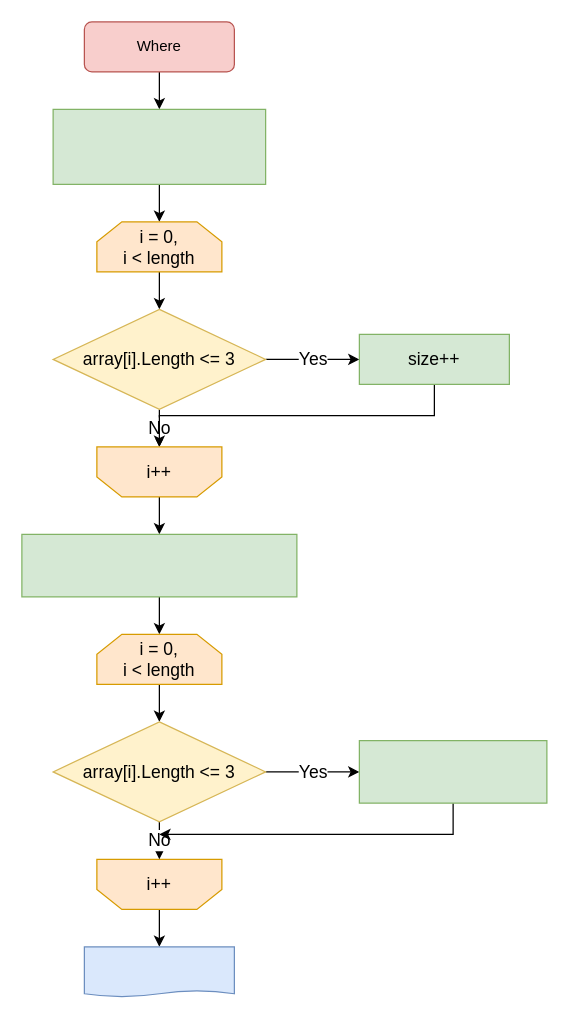
Image size: 569x1019. Some labels were removed from this diagram. Here are the shapes that lost their labels. From the top down, the box of each, then its label:
(52, 108, 266, 184): string[] array, length = array.Legth, size = 0
(21, 533, 297, 597): string[] data = new string[size], index = 0
(358, 739, 547, 803): data[index] = array[i], index++
(83, 946, 234, 997): data
